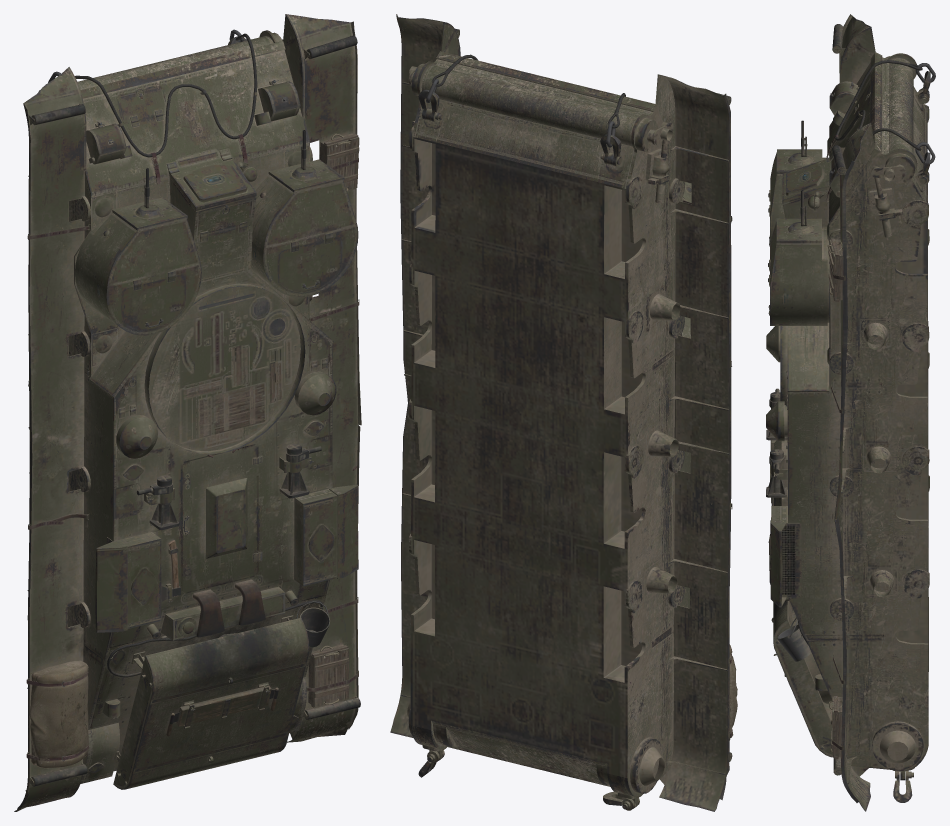
Rendered from Hull.glb.
3 views of the same model, side by side, from view 1: azimuth 30°, elevation 25°; view 2: azimuth 150°, elevation 25°; view 3: azimuth 270°, elevation 25° (orthographic). The views are drawn at different scales.
Parts seen in each view (by area): view 1: set_0_group_0; view 2: set_0_group_0; view 3: set_0_group_0.
Part boxes in pixels (x1,y1,x2,y2): set_0_group_0: [14, 14, 361, 811]; set_0_group_0: [390, 14, 737, 811]; set_0_group_0: [766, 14, 935, 811].
Size of the model in its own units: 3.22 by 6.91 by 1.57.
Materials: 1 (1 with a texture image).
